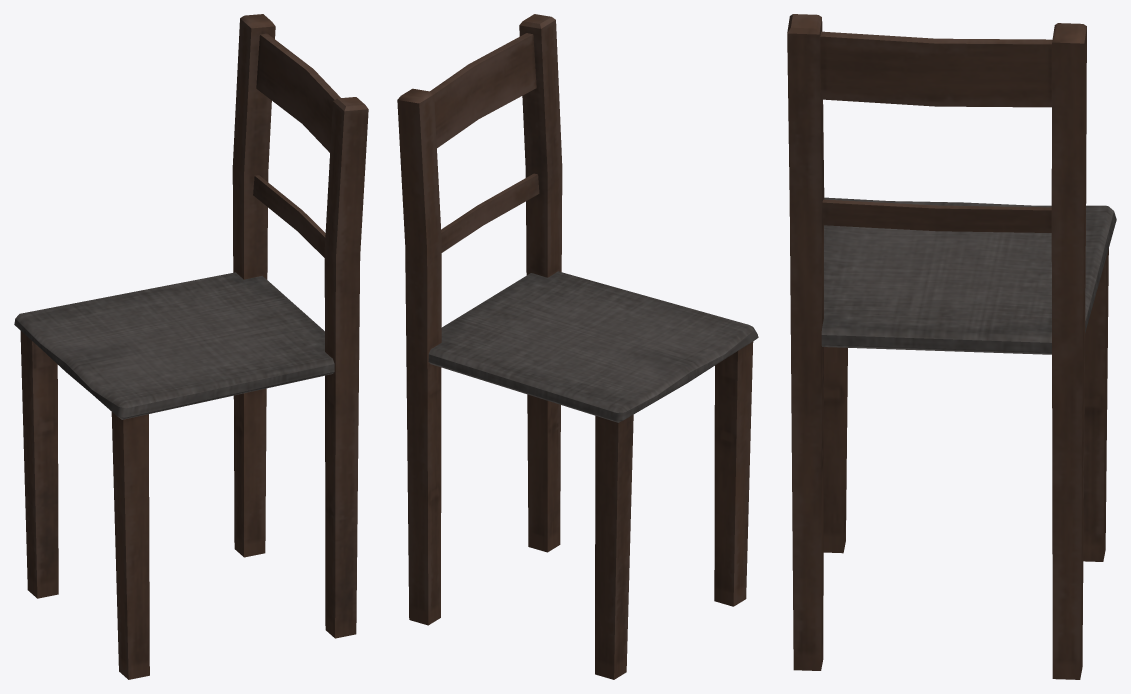
File: Chair.fbx
3 renders of one model, left to right at view 1: azimuth 30°, elevation 25°; view 2: azimuth 150°, elevation 25°; view 3: azimuth 270°, elevation 25°, orthographic. The views are drawn at different scales.
Parts seen in each view (by area): view 1: Scene_low.321; view 2: Scene_low.321; view 3: Scene_low.321.
Part boxes in pixels (x1,y1,x2,y2): Scene_low.321: (14,14,368,679); Scene_low.321: (397,14,758,679); Scene_low.321: (787,14,1116,679).
Size of the model in its own units: 5575 by 11031 by 5069.
Materials: 1 (1 with a texture image).
